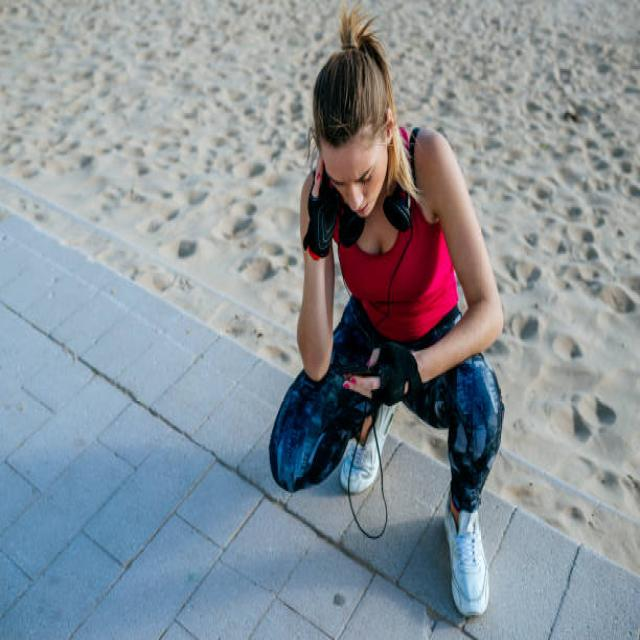Headphone: (339, 186, 414, 249)
